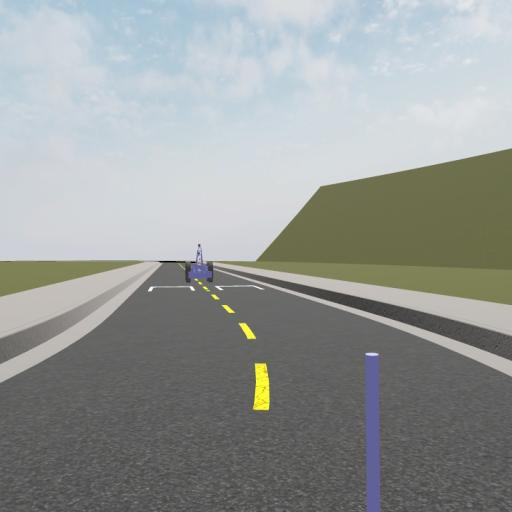ERP-42: (184, 242, 214, 286)
